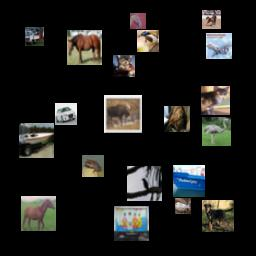airplane: (206, 33, 232, 59), (175, 198, 191, 214)
automobile: (55, 103, 77, 125)
bird: (127, 166, 162, 201), (202, 117, 231, 146), (137, 30, 159, 52)
cat: (201, 86, 230, 115), (164, 106, 190, 132)
deer: (104, 95, 142, 133)
dog: (202, 200, 234, 232), (113, 55, 135, 77)
frog: (82, 155, 104, 177)
ship: (19, 123, 54, 158), (173, 165, 205, 197)
truck: (114, 206, 149, 241), (25, 27, 44, 46)
